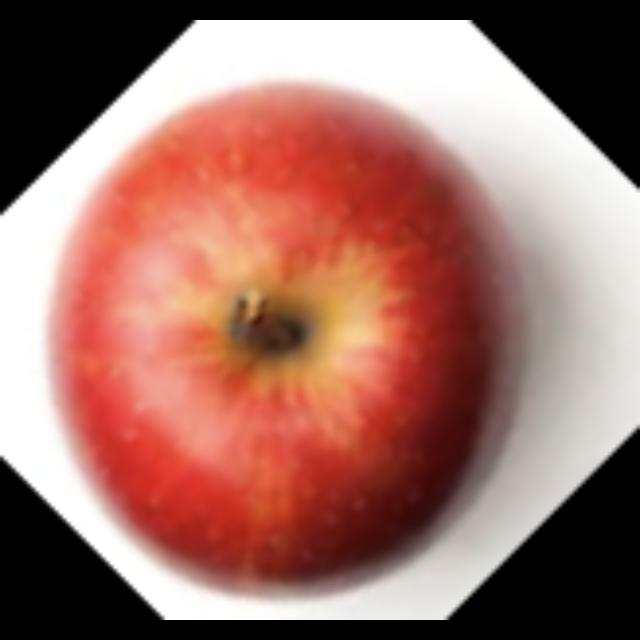Apel Segar: (38, 71, 532, 608)
